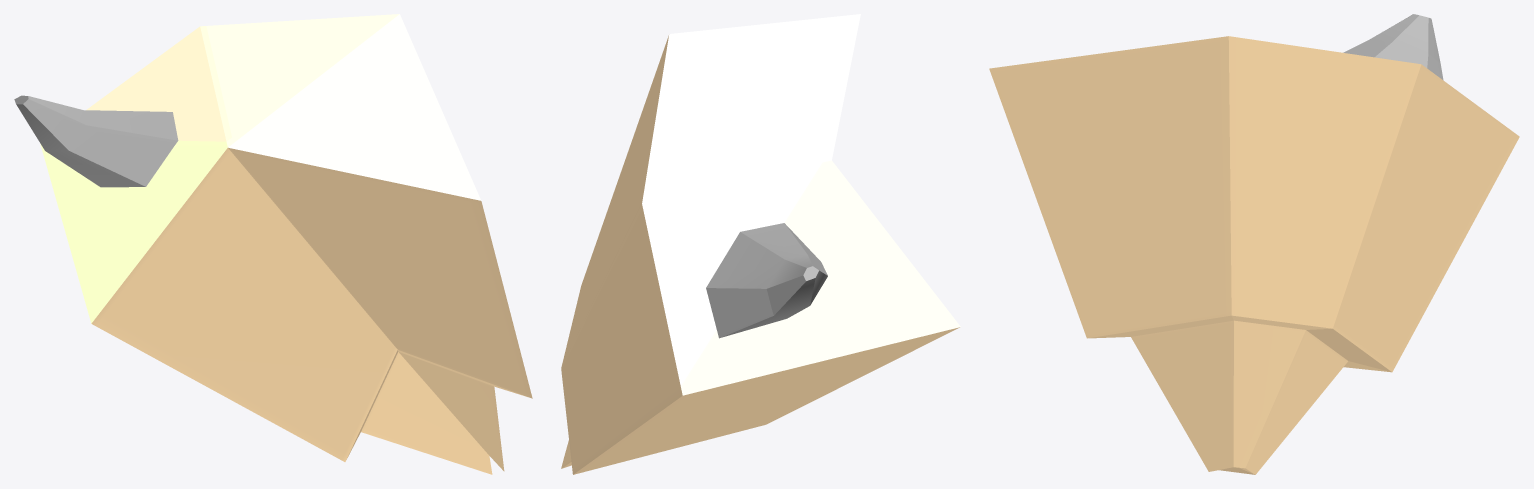
The model's file is chunk1.fbx.
3 views of the same model, side by side, from view 1: azimuth 30°, elevation 25°; view 2: azimuth 150°, elevation 25°; view 3: azimuth 270°, elevation 25° (orthographic). The views are drawn at different scales.
Parts seen in each view (by area): view 1: chunk1; view 2: chunk1; view 3: chunk1.
Boxes of the visible parts, x1,y1,x2,y2 form: chunk1: [14, 14, 532, 474]; chunk1: [561, 14, 960, 474]; chunk1: [989, 14, 1519, 474].
Size of the model in its own units: 3.33 by 3.67 by 4.42.
